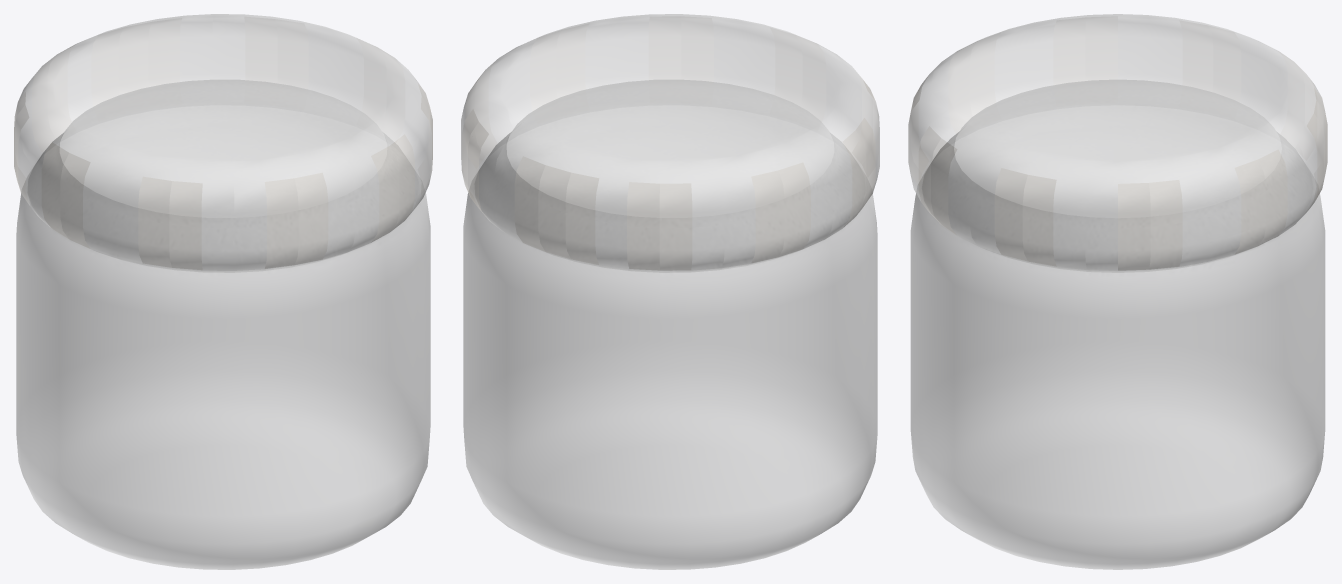
File: kav3_1.glb
The picture shows the model from 3 angles, left to right: view 1: azimuth 30°, elevation 25°; view 2: azimuth 150°, elevation 25°; view 3: azimuth 270°, elevation 25°; orthographic projection.
Visible parts, largest first — view 1: kav3_1; view 2: kav3_1; view 3: kav3_1.
Part boxes in pixels (x1,y1,x2,y2): kav3_1: (14, 14, 432, 569); kav3_1: (461, 14, 879, 569); kav3_1: (908, 14, 1327, 569).
Bounding box in the file's own units: 1.43 × 1.55 × 1.43.
1 material, 1 textured.
